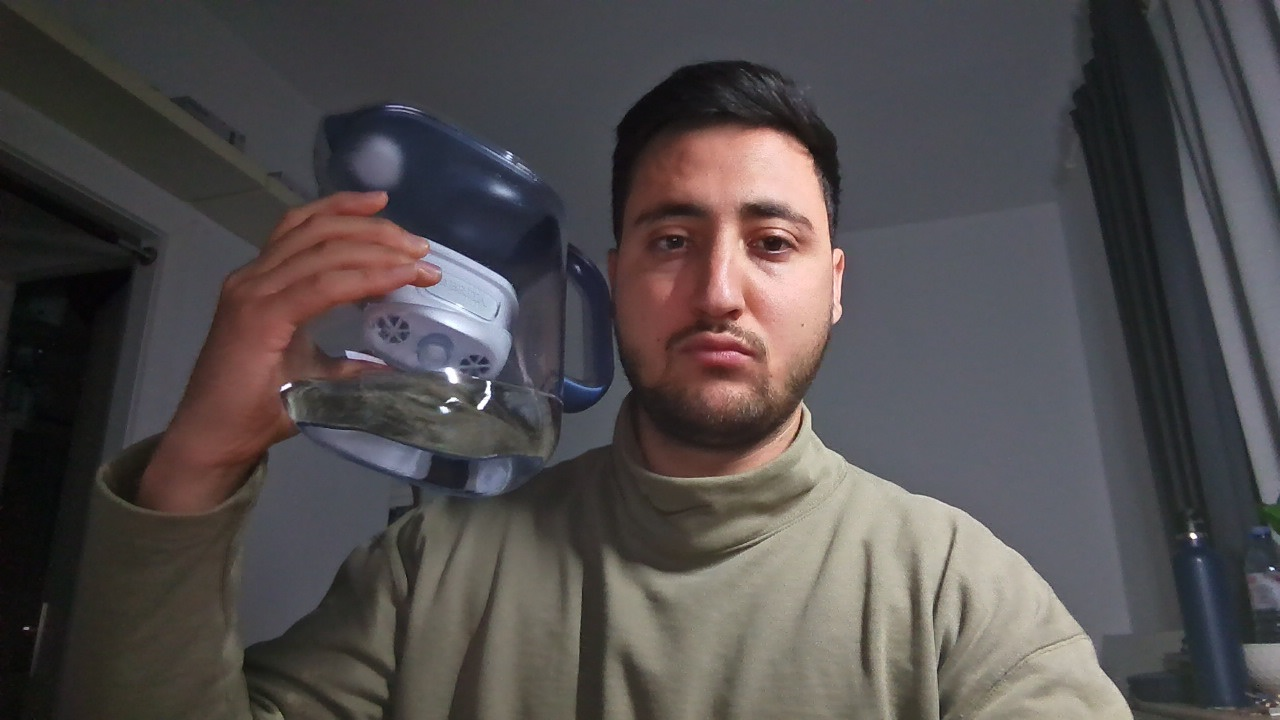Wasserflasche: (252, 87, 615, 505), (1151, 501, 1253, 713)
me: (601, 51, 856, 462)
